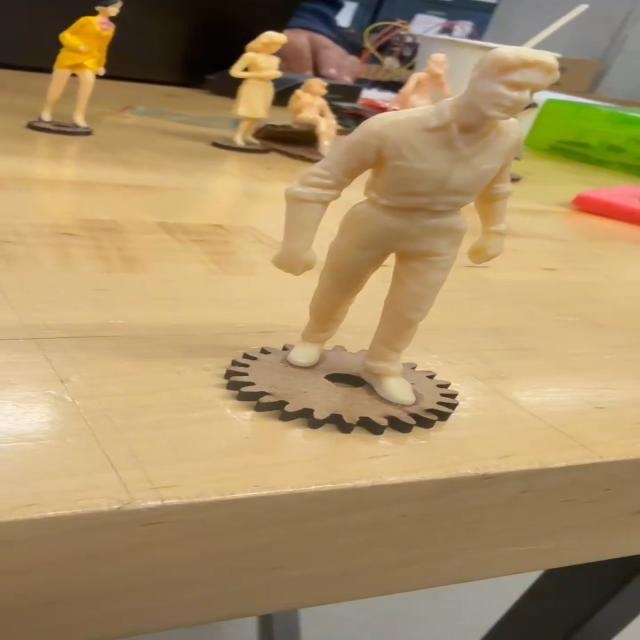Unauthorized: (280, 45, 566, 421)
